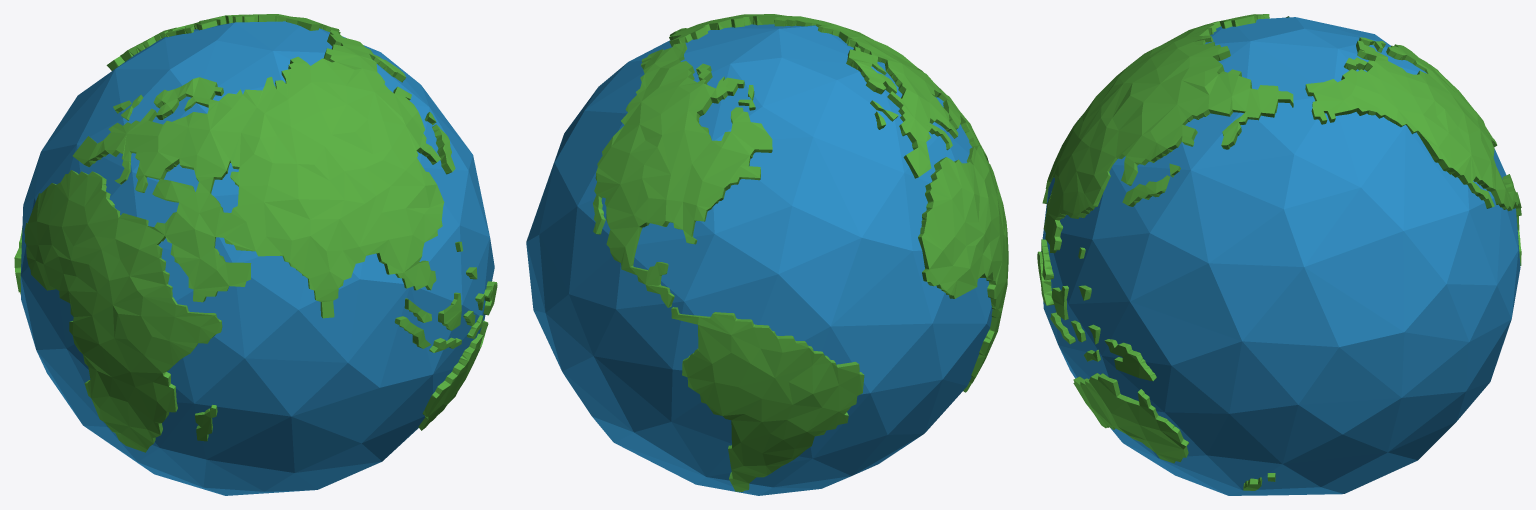
File: Low+Poly+Earth+V2.fbx
3 renders of one model, left to right at view 1: azimuth 30°, elevation 25°; view 2: azimuth 150°, elevation 25°; view 3: azimuth 270°, elevation 25°, orthographic.
Visible parts, largest first — view 1: Land_Masses, Oceans; view 2: Oceans, Land_Masses; view 3: Oceans, Land_Masses.
Part boxes in pixels (left/top/right/bottom): Land_Masses: left=14, top=14, right=497, bottom=452; Oceans: left=20, top=21, right=494, bottom=495; Oceans: left=526, top=24, right=992, bottom=495; Land_Masses: left=593, top=14, right=1008, bottom=491; Oceans: left=1041, top=17, right=1520, bottom=495; Land_Masses: left=1037, top=14, right=1521, bottom=490.
Bounding box in the file's own units: 207 × 206 × 207.
